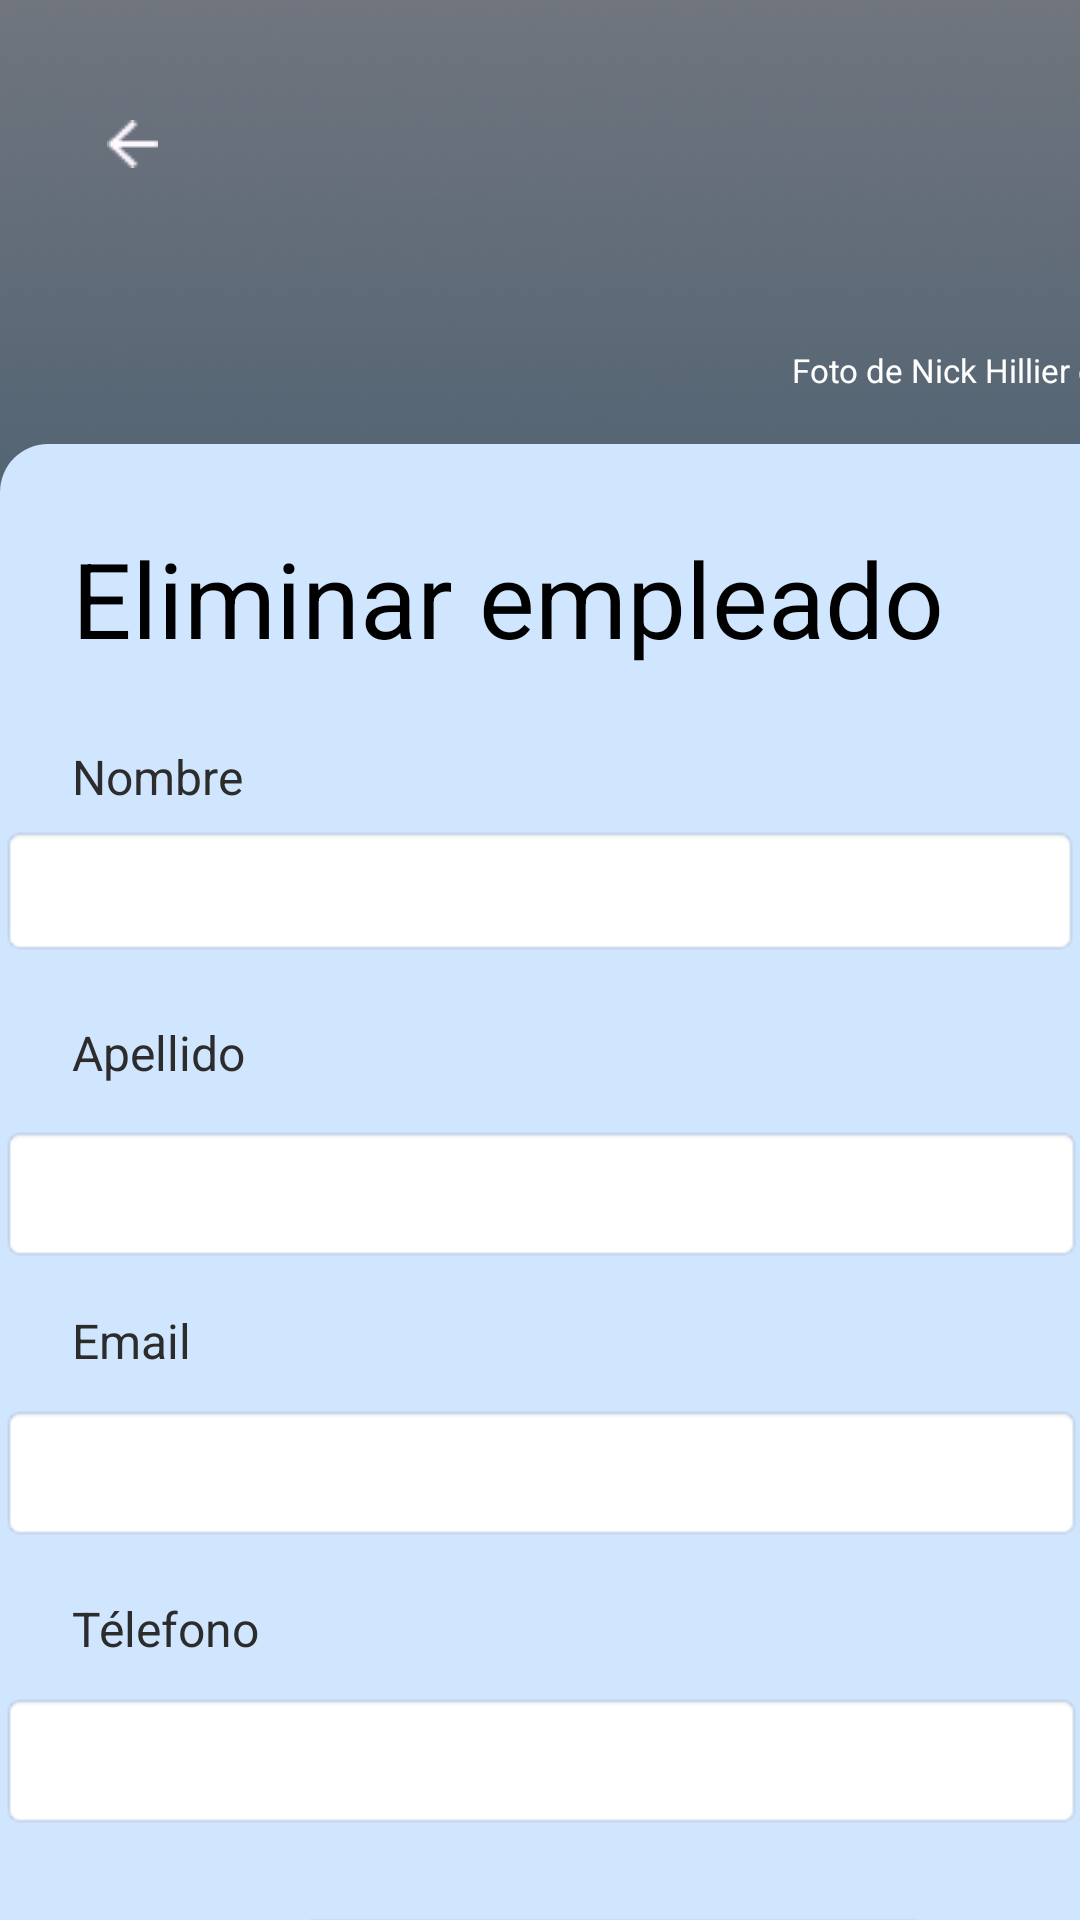

Locate icon controls on the screen. Image size 1080x1920, boxes as bbox=(x1, y1, x2, y2).
flecha atras: bbox=(107, 120, 158, 168)
